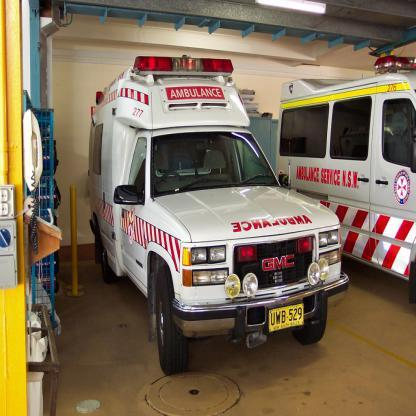Ambulance - v1 Ambulance last generate: (89, 55, 350, 374), (276, 54, 415, 306)
